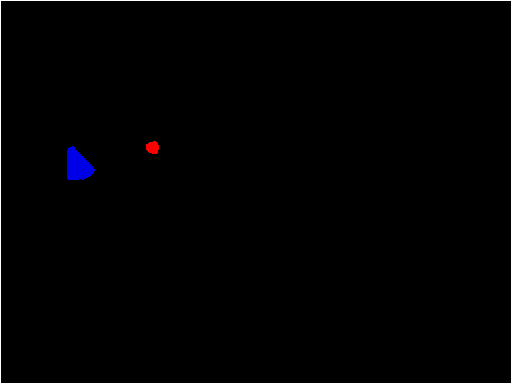chipped: (65, 151, 91, 180)
detached: (143, 140, 161, 153)
